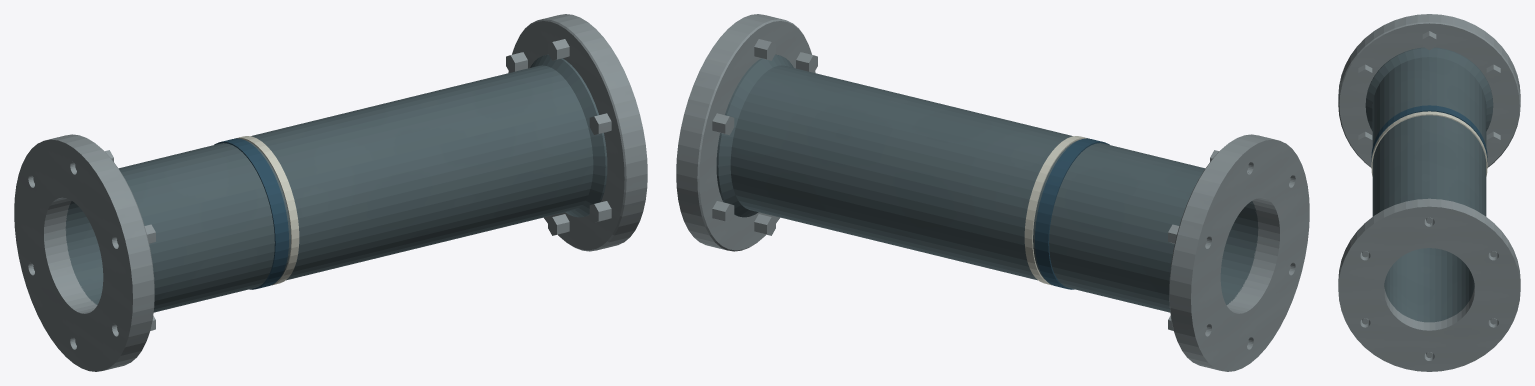
File: AST-ENG-004.glb
3 renders of one model, left to right at view 1: azimuth 30°, elevation 25°; view 2: azimuth 150°, elevation 25°; view 3: azimuth 270°, elevation 25°, orthographic. The views are drawn at different scales.
Parts seen in each view (by area): view 1: AST-ENG-004__static__staff_bluegrey_paint, AST-ENG-004__static__staff_zinc, AST-ENG-004__static__staff_cable_blue, AST-ENG-004__static__staff_label; view 2: AST-ENG-004__static__staff_bluegrey_paint, AST-ENG-004__static__staff_zinc, AST-ENG-004__static__staff_cable_blue, AST-ENG-004__static__staff_label; view 3: AST-ENG-004__static__staff_zinc, AST-ENG-004__static__staff_bluegrey_paint, AST-ENG-004__static__staff_cable_blue, AST-ENG-004__static__staff_label.
Boxes of the visible parts, <box> form: AST-ENG-004__static__staff_bluegrey_paint: <box>65,54,607,312</box>; AST-ENG-004__static__staff_zinc: <box>14,14,647,371</box>; AST-ENG-004__static__staff_cable_blue: <box>214,138,288,289</box>; AST-ENG-004__static__staff_label: <box>235,136,299,285</box>; AST-ENG-004__static__staff_bluegrey_paint: <box>716,54,1258,312</box>; AST-ENG-004__static__staff_zinc: <box>676,14,1309,371</box>; AST-ENG-004__static__staff_cable_blue: <box>1035,138,1109,289</box>; AST-ENG-004__static__staff_label: <box>1024,136,1088,285</box>; AST-ENG-004__static__staff_zinc: <box>1338,14,1520,371</box>; AST-ENG-004__static__staff_bluegrey_paint: <box>1365,47,1493,322</box>; AST-ENG-004__static__staff_cable_blue: <box>1371,105,1487,161</box>; AST-ENG-004__static__staff_label: <box>1371,111,1487,176</box>.
Size of the model in its own units: 0.8 by 0.32 by 0.32.
Materials: 4 (4 with a texture image).
